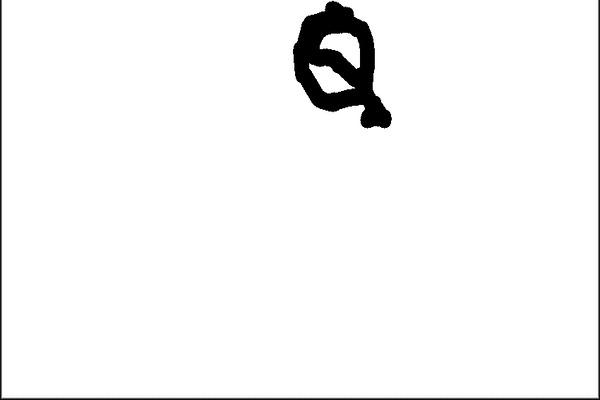Q: (282, 0, 390, 127)
